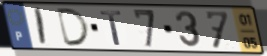3: (174, 10, 202, 49)
7: (131, 8, 158, 49), (204, 10, 231, 50)
D: (55, 7, 92, 48)
I: (34, 7, 49, 48)
T: (98, 10, 125, 47)
